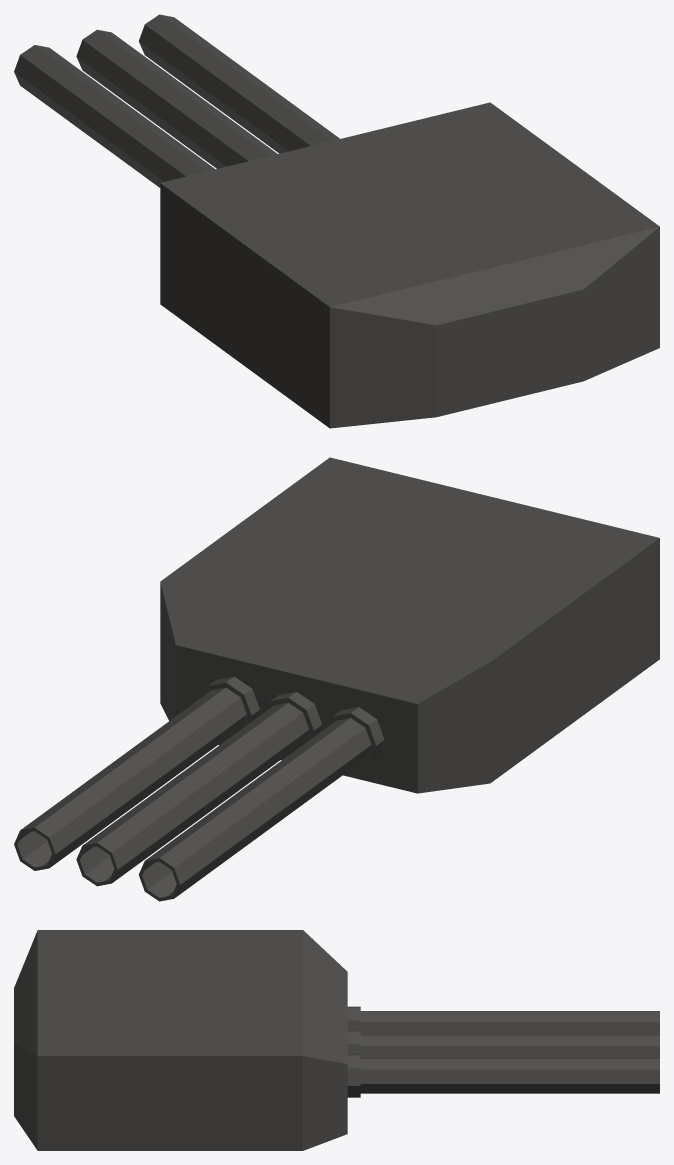
File: EnemyRatteMainTurret.fbx
The picture shows the model from 3 angles, top to bottom: view 1: azimuth 30°, elevation 25°; view 2: azimuth 150°, elevation 25°; view 3: azimuth 270°, elevation 25°; orthographic projection. The views are drawn at different scales.
Visible parts, largest first — view 1: Cube.001; view 2: Cube.001; view 3: Cube.001.
Part boxes in pixels (left/top/right/bottom): Cube.001: left=14, top=14, right=659, bottom=428; Cube.001: left=14, top=457, right=659, bottom=901; Cube.001: left=14, top=930, right=659, bottom=1150.
Bounding box in the file's own units: 476 × 167 × 1032.
Materials: 1 (1 with a texture image).
